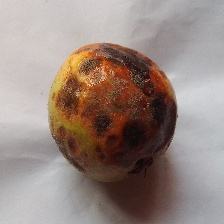guava: (3, 39, 201, 222)
